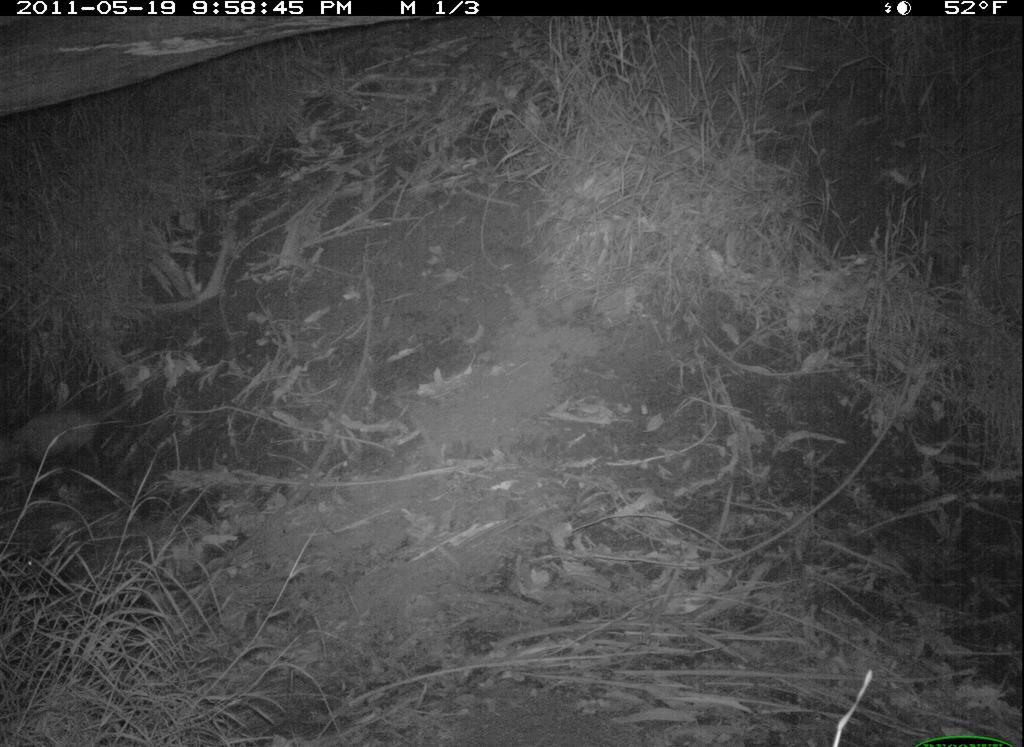opossum: (3, 387, 185, 486)
